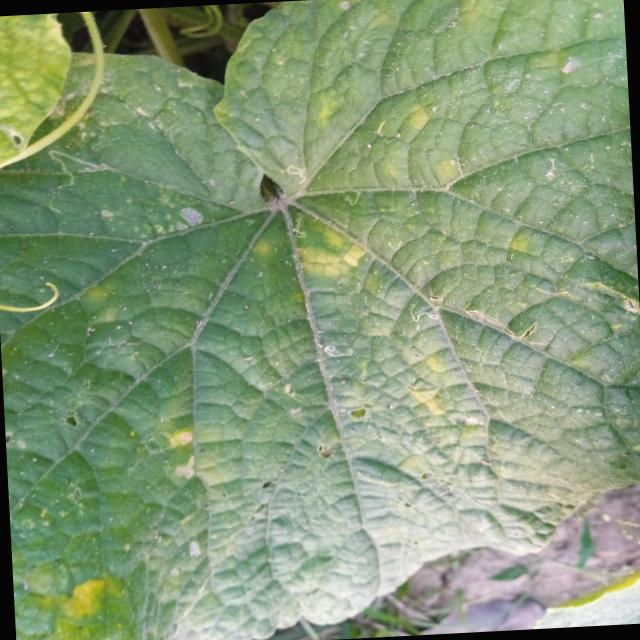cucumber_downy: (57, 0, 640, 634)
